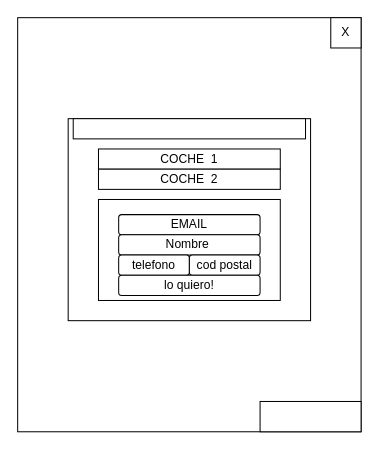
Some shapes in this 379 by 449 pixel diagram are drawn without their labels. Here are the shapes that lost their labels. From the top down, the box of each, then its label:
(72, 118, 306, 139): Selecciona los coches que te interesen
(259, 400, 361, 432): Privacy
